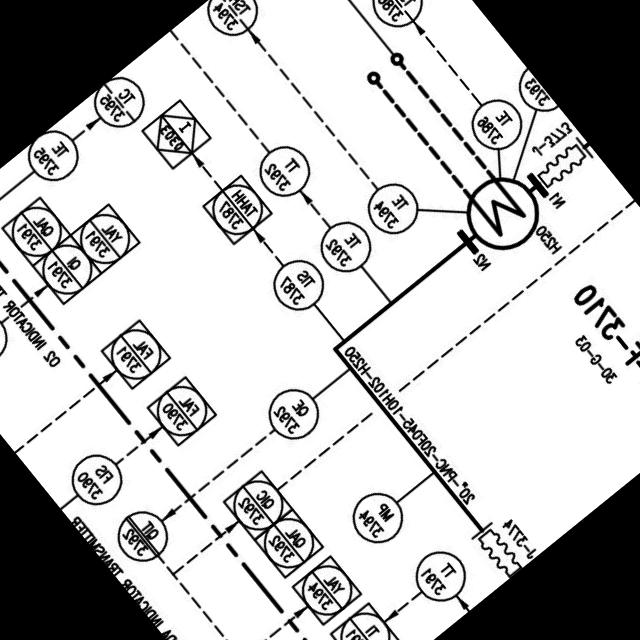EJ: (528, 129, 600, 197), (469, 518, 528, 580)
HE: (452, 163, 554, 264)
